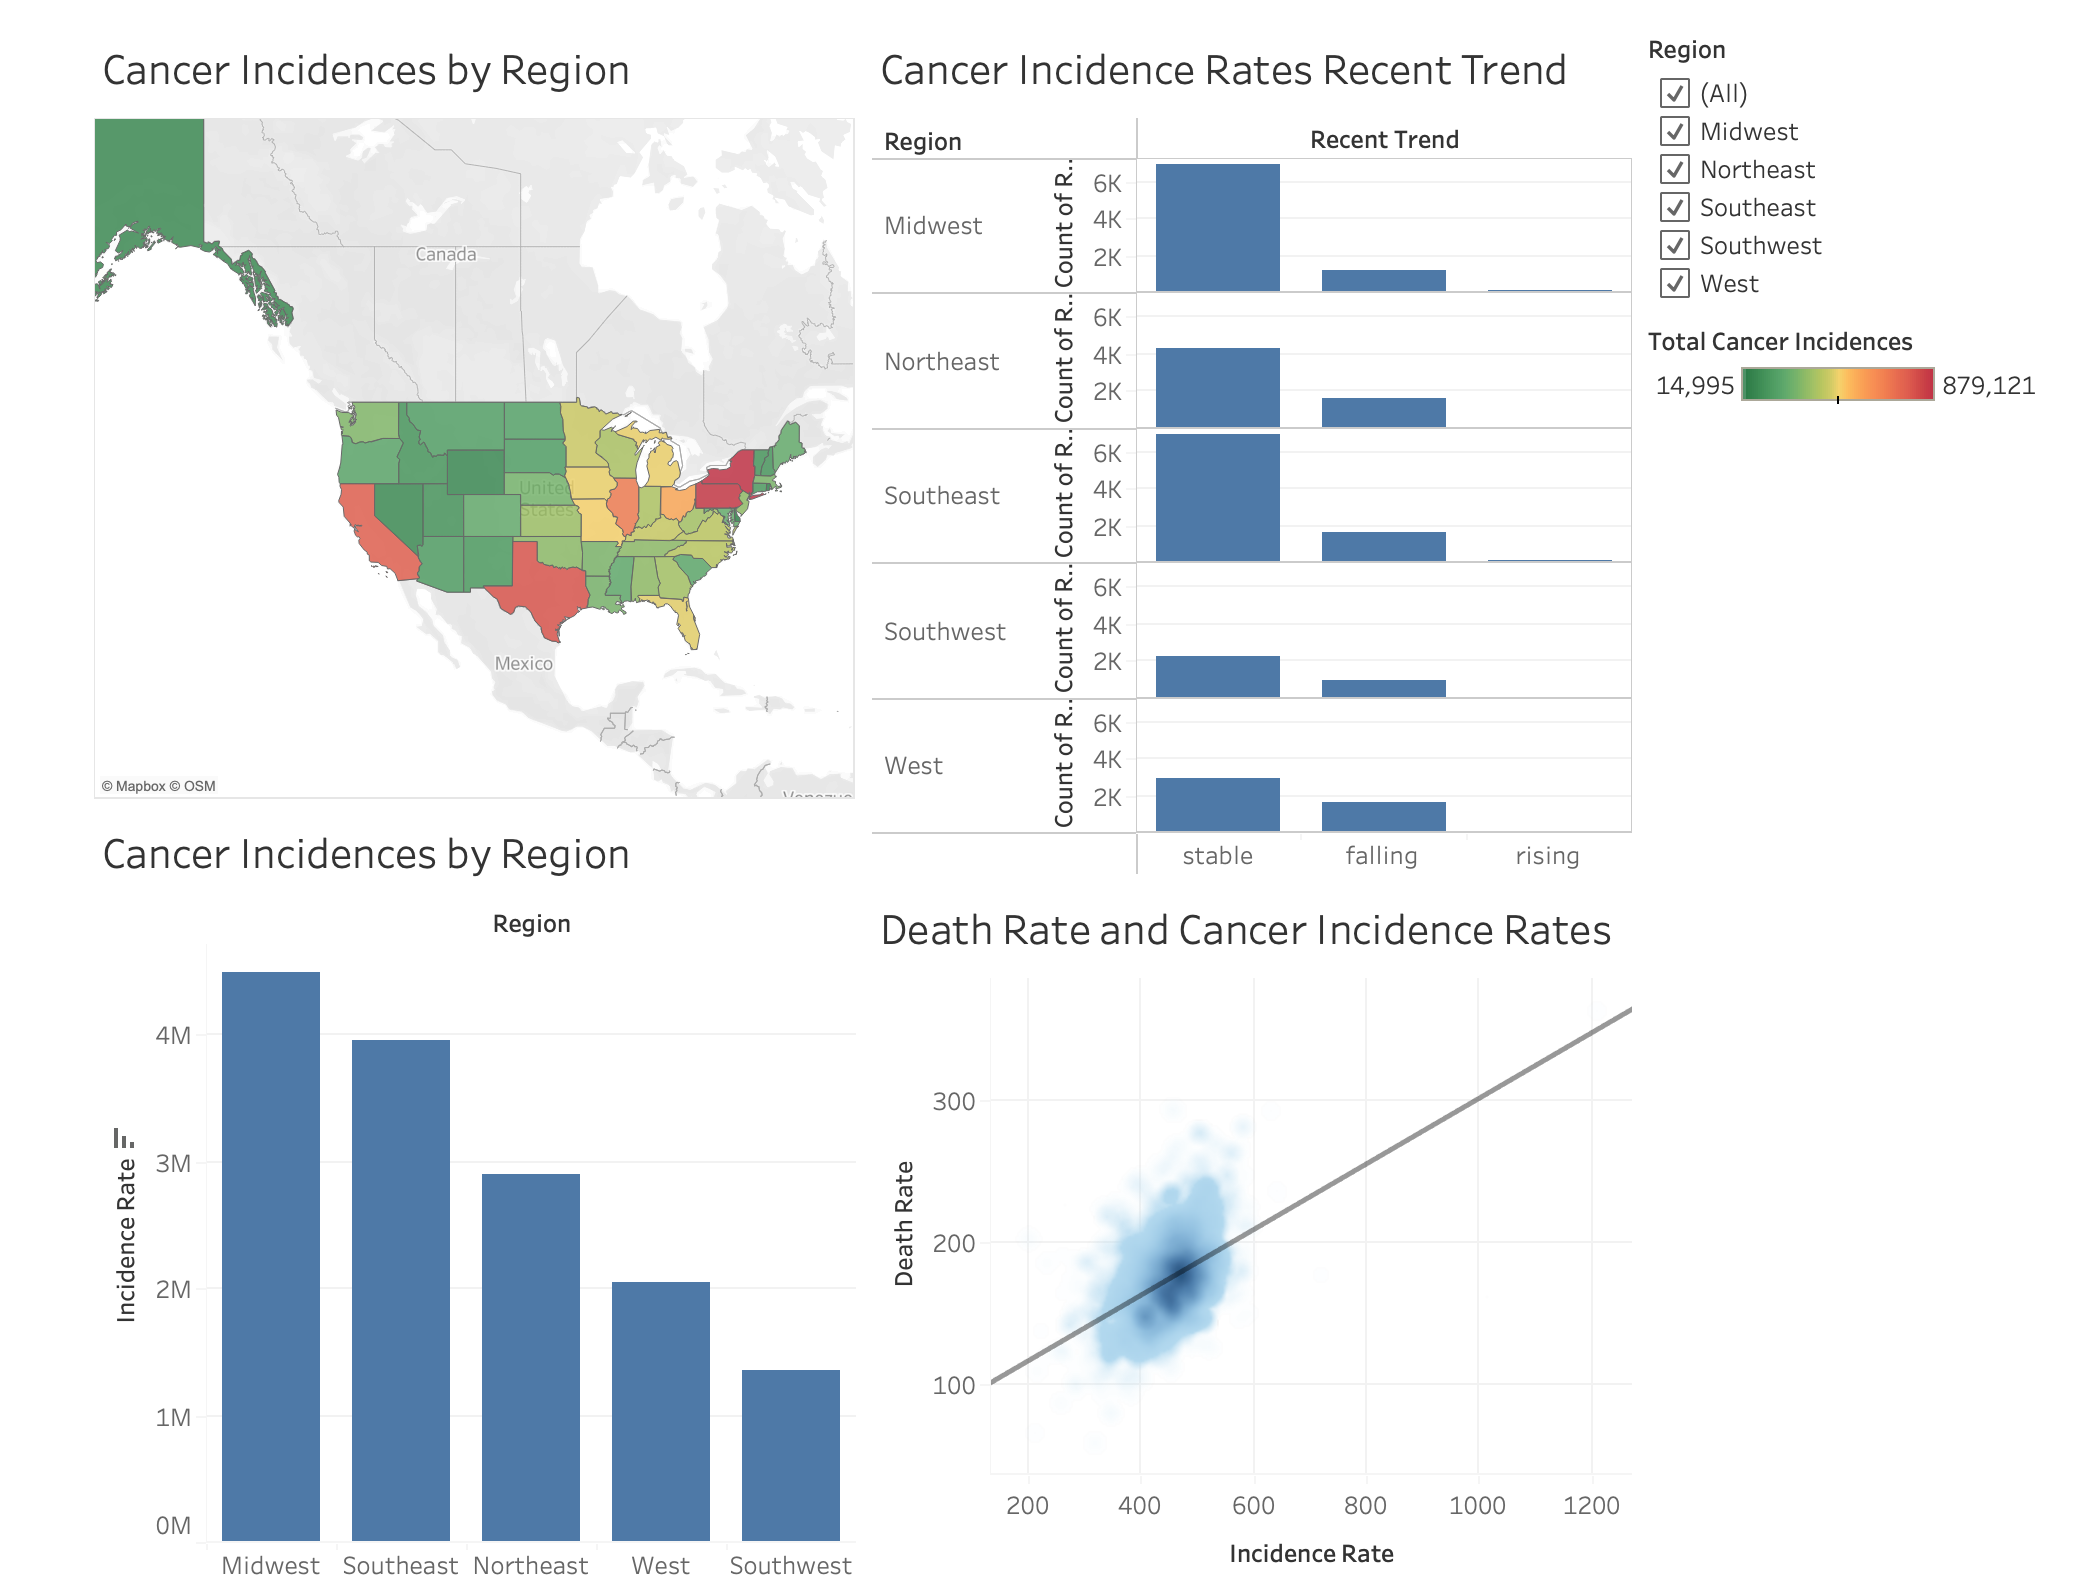

The dashboard page shown, as its layout file describes it:
{"tool":"tableau","page":{"name":"Map and Cancer Incidences ","canvas":[1000,800],"ordinal":4},"visuals":[{"type":"worksheet","title":"Cancer Incidences by Region","mark":"Automatic","box":[8,8,388.5,392]},{"type":"worksheet","title":"Cancer Incidence Rates Recent Trend","mark":"Automatic","rows":["Region","recentTrend"],"cols":["recentTrend"],"box":[396.5,8,388.5,430]},{"type":"filter","title":"Cancer Incidences by Region","param":"[federated.04o36gq1rfu74516y9lqn1qlyah2].[none:Region:nk]","box":[785,8,207,146]},{"type":"legend","title":"Cancer Incidences by Region","param":"[federated.04o36gq1rfu74516y9lqn1qlyah2].[sum:incidenceRate:qk]","box":[785,154,207,65]},{"type":"worksheet","title":"Cancer Incidences by Region Bar Chart","mark":"Automatic","rows":["incidenceRate"],"cols":["Region"],"box":[8,400,388.5,392]},{"type":"worksheet","title":"Death Rate and Incidence Rates","mark":"Heatmap","rows":["deathRate"],"cols":["incidenceRate"],"box":[396.5,438,388.5,354]}]}

Visuals, with their boxes on the page's 1000x800 design canvas (x1, y1, x2, y2). These are canvas units, not pixel positions in the 2082x1594 screenshot, which may show the page scaled, cropped or inside an application window:
"Cancer Incidences by Region" worksheet: [x1=8, y1=8, x2=396, y2=400]
"Cancer Incidence Rates Recent Trend" worksheet: [x1=396, y1=8, x2=785, y2=438]
"Cancer Incidences by Region" filter: [x1=785, y1=8, x2=992, y2=154]
"Cancer Incidences by Region" legend: [x1=785, y1=154, x2=992, y2=219]
"Cancer Incidences by Region Bar Chart" worksheet: [x1=8, y1=400, x2=396, y2=792]
"Death Rate and Incidence Rates" worksheet (Heatmap marks): [x1=396, y1=438, x2=785, y2=792]
